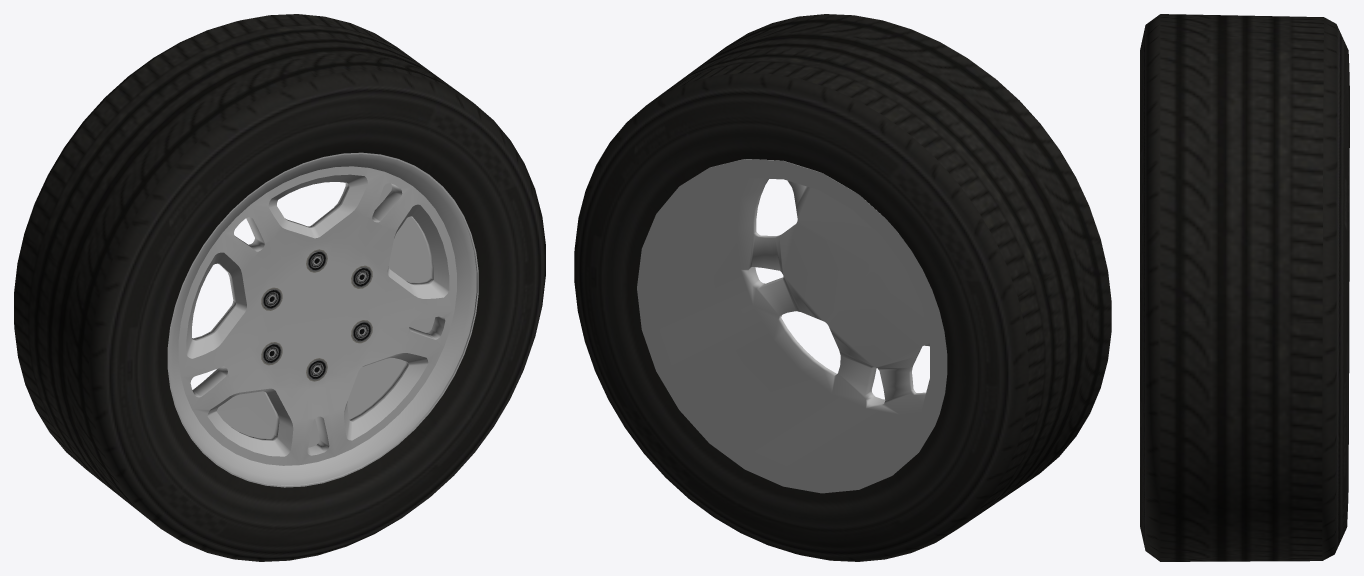
The picture shows the model from 3 angles, left to right: view 1: azimuth 30°, elevation 25°; view 2: azimuth 150°, elevation 25°; view 3: azimuth 270°, elevation 25°; orthographic projection. The views are drawn at different scales.
Visible parts, largest first — view 1: U805_4A_901B_R_U805_4A_901B_R_3_DM, U805_4A_901B_R_U805_4A_901B_R_2_DaS, U805_4A_901B_R_1_D_U805_4A_901B_R; view 2: U805_4A_901B_R_U805_4A_901B_R_3_DM, U805_4A_901B_R_U805_4A_901B_R_2_DaS; view 3: U805_4A_901B_R_U805_4A_901B_R_3_DM.
Boxes of the visible parts, x1,y1,x2,y2 form: U805_4A_901B_R_U805_4A_901B_R_3_DM: (14, 14, 545, 561); U805_4A_901B_R_U805_4A_901B_R_2_DaS: (167, 152, 478, 487); U805_4A_901B_R_1_D_U805_4A_901B_R: (261, 249, 372, 381); U805_4A_901B_R_U805_4A_901B_R_3_DM: (574, 14, 1111, 561); U805_4A_901B_R_U805_4A_901B_R_2_DaS: (637, 159, 947, 493); U805_4A_901B_R_U805_4A_901B_R_3_DM: (1140, 14, 1349, 561).
Bounding box in the file's own units: 70.79 × 70.84 × 27.06.
